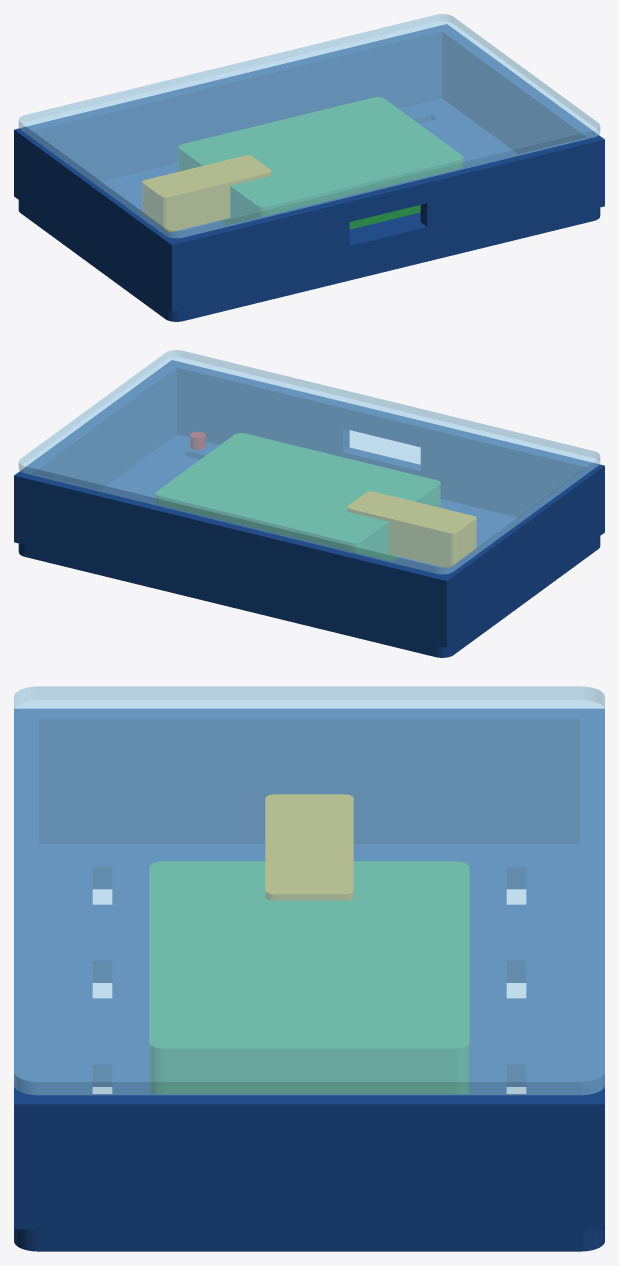
The model's file is HR30_axis_commissioning_station_candidate.glb.
3 views of the same model, one above another, from view 1: azimuth 30°, elevation 25°; view 2: azimuth 150°, elevation 25°; view 3: azimuth 270°, elevation 25° (orthographic). The views are drawn at different scales.
Visible parts, largest first — view 1: PRINTED_UNIVERSAL_TRAY, TRANSPARENT_COVER_CANDIDATE, PHB_CLEARANCE_ENVELOPE_RECEIPT_MEASURE, U2D2_48x18x14p9; view 2: PRINTED_UNIVERSAL_TRAY, TRANSPARENT_COVER_CANDIDATE, PHB_CLEARANCE_ENVELOPE_RECEIPT_MEASURE, U2D2_48x18x14p9; view 3: TRANSPARENT_COVER_CANDIDATE, PRINTED_UNIVERSAL_TRAY, PHB_CLEARANCE_ENVELOPE_RECEIPT_MEASURE, U2D2_48x18x14p9.
Boxes of the visible parts, left/top/right/bottom form: PRINTED_UNIVERSAL_TRAY: left=14, top=24, right=604, bottom=321; TRANSPARENT_COVER_CANDIDATE: left=18, top=14, right=600, bottom=238; PHB_CLEARANCE_ENVELOPE_RECEIPT_MEASURE: left=178, top=97, right=462, bottom=229; U2D2_48x18x14p9: left=142, top=155, right=271, bottom=232; PRINTED_UNIVERSAL_TRAY: left=14, top=360, right=604, bottom=657; TRANSPARENT_COVER_CANDIDATE: left=18, top=350, right=600, bottom=574; PHB_CLEARANCE_ENVELOPE_RECEIPT_MEASURE: left=156, top=433, right=440, bottom=561; U2D2_48x18x14p9: left=347, top=491, right=476, bottom=568; TRANSPARENT_COVER_CANDIDATE: left=14, top=686, right=604, bottom=1095; PRINTED_UNIVERSAL_TRAY: left=14, top=709, right=604, bottom=1251; PHB_CLEARANCE_ENVELOPE_RECEIPT_MEASURE: left=149, top=861, right=469, bottom=1093; U2D2_48x18x14p9: left=265, top=794, right=353, bottom=900.
Bounding box in the file's own units: 190 × 38 × 120.
